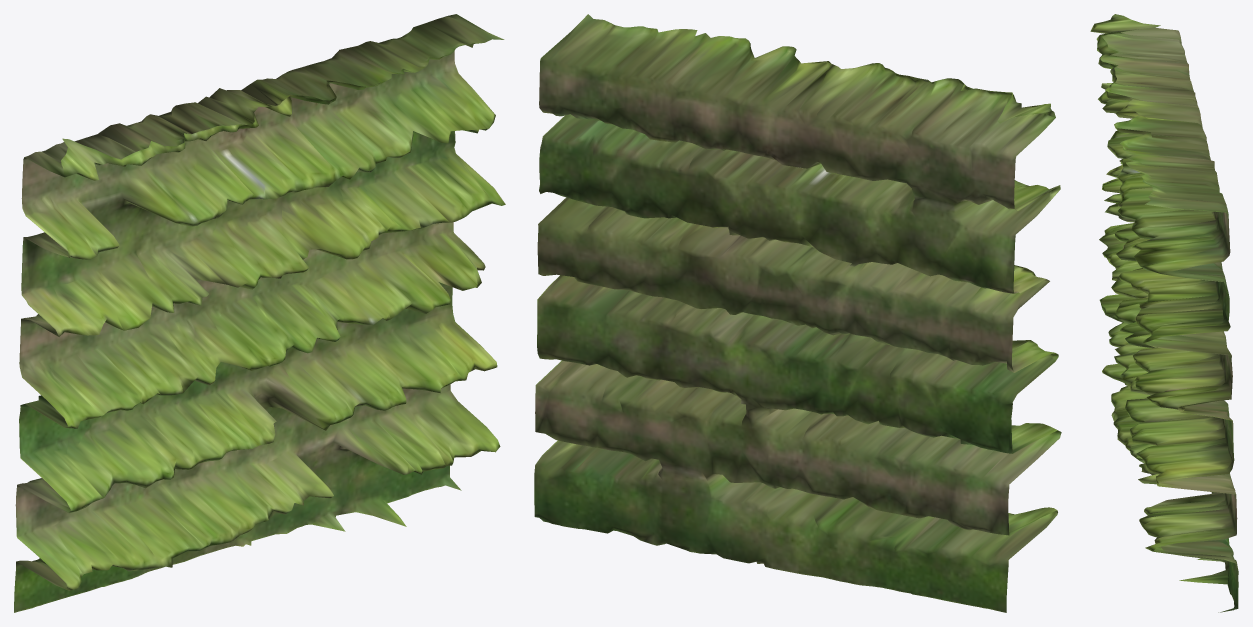
File: map_30_40.obj
3 views of the same model, side by side, from view 1: azimuth 30°, elevation 25°; view 2: azimuth 150°, elevation 25°; view 3: azimuth 270°, elevation 25° (orthographic). The views are drawn at different scales.
Bounding box in the file's own units: 10 × 10 × 3.29.
1 material, 1 textured.
